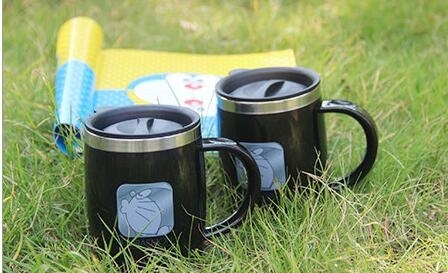cup: (83, 103, 261, 262), (214, 66, 379, 202)
